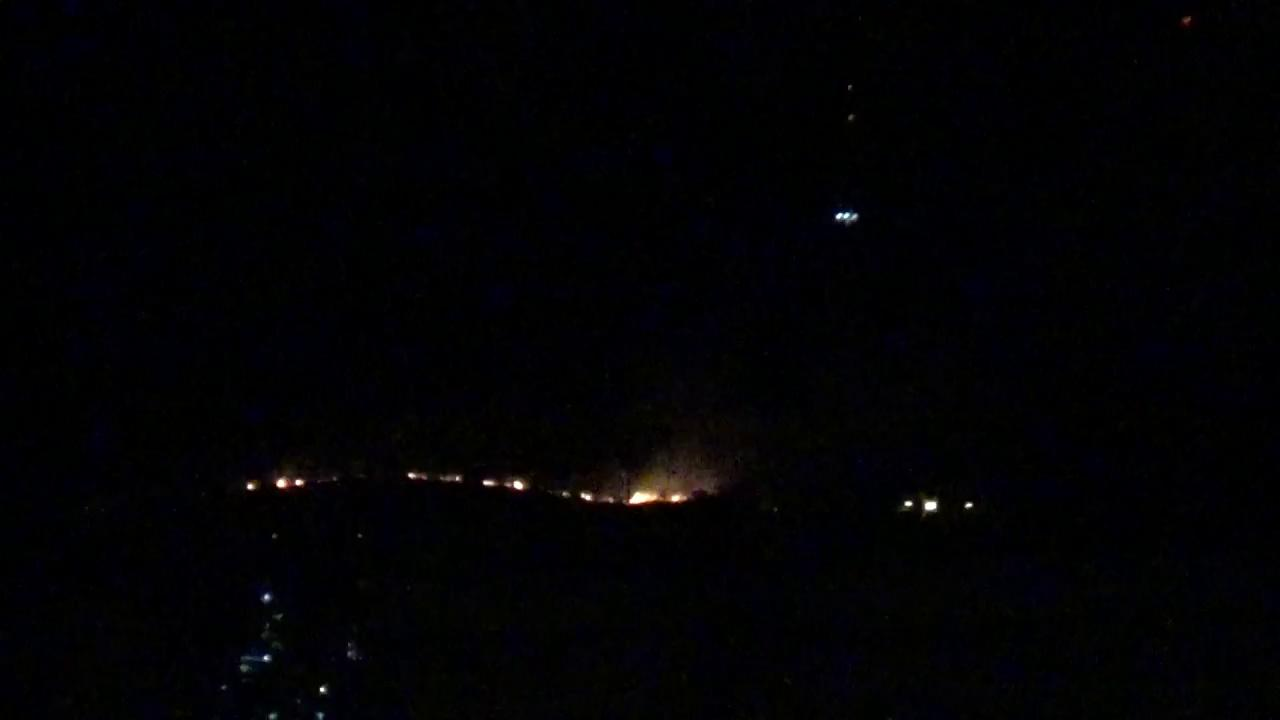fire: (627, 489, 685, 508), (273, 471, 310, 492), (484, 478, 524, 490), (403, 470, 426, 482), (579, 491, 596, 502)
